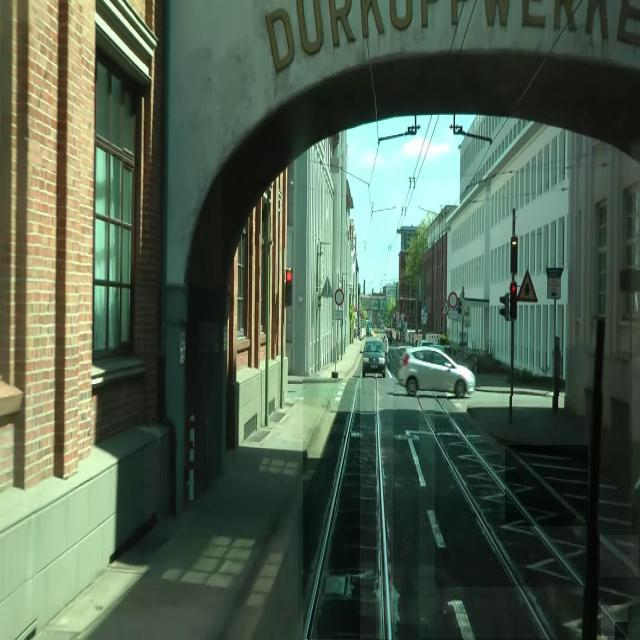rail: (420, 402, 556, 639), (436, 398, 585, 588), (305, 380, 361, 640), (506, 447, 589, 527), (377, 380, 394, 640), (602, 536, 640, 578), (602, 606, 629, 639), (616, 623, 629, 639)
